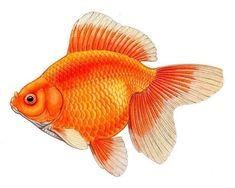goldfish: (10, 35, 213, 166)
